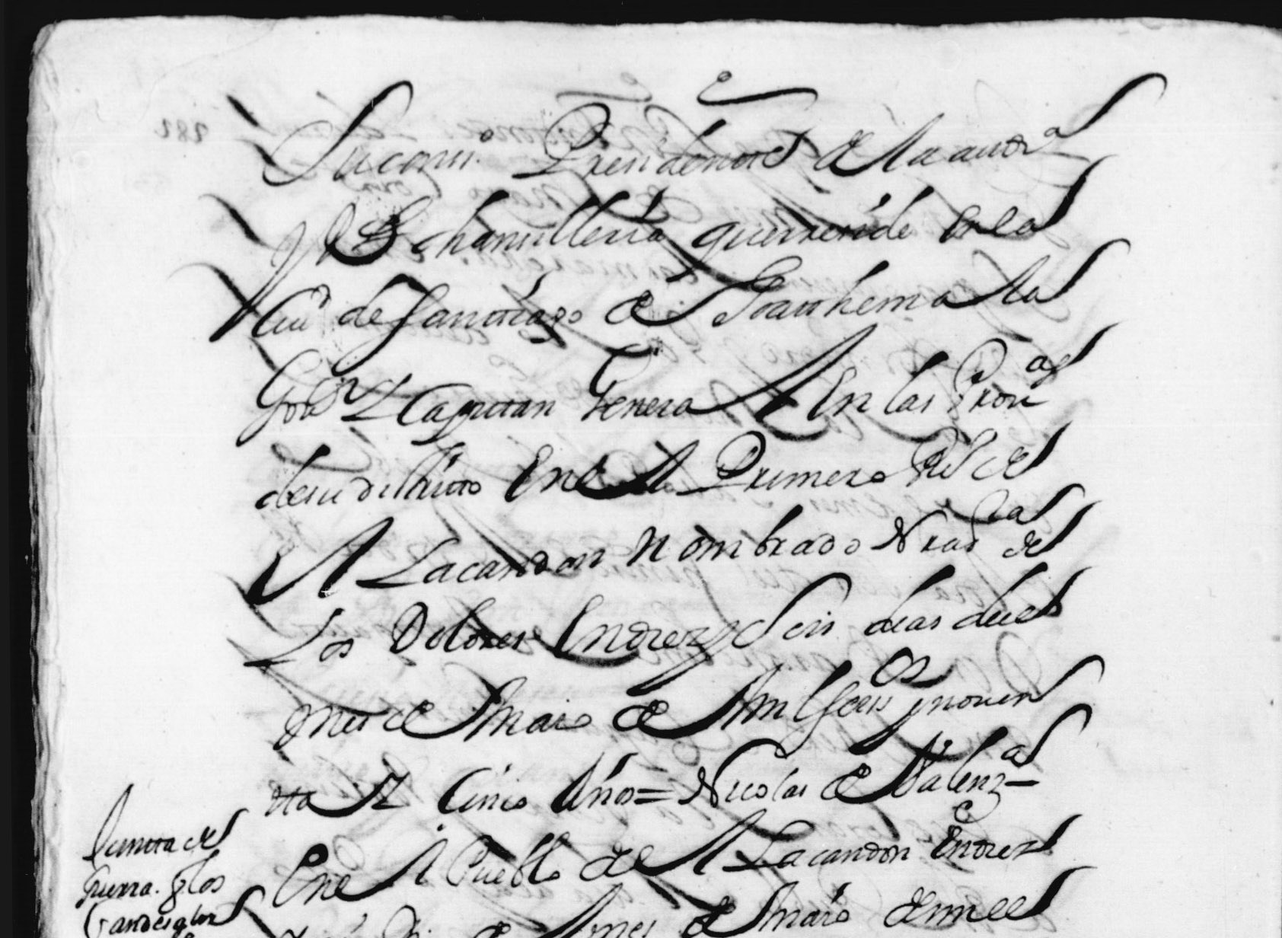lacandon: (356, 537, 605, 589)
